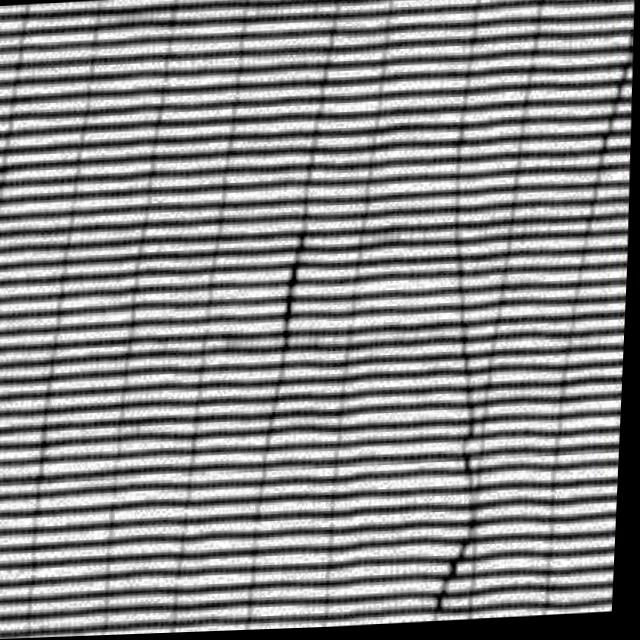Stitch: (398, 285, 541, 621)
